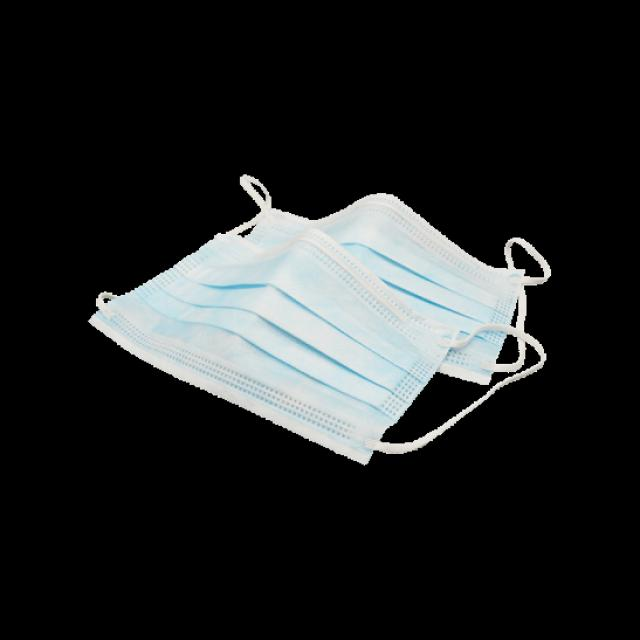non-organic waste: (92, 179, 550, 469)
